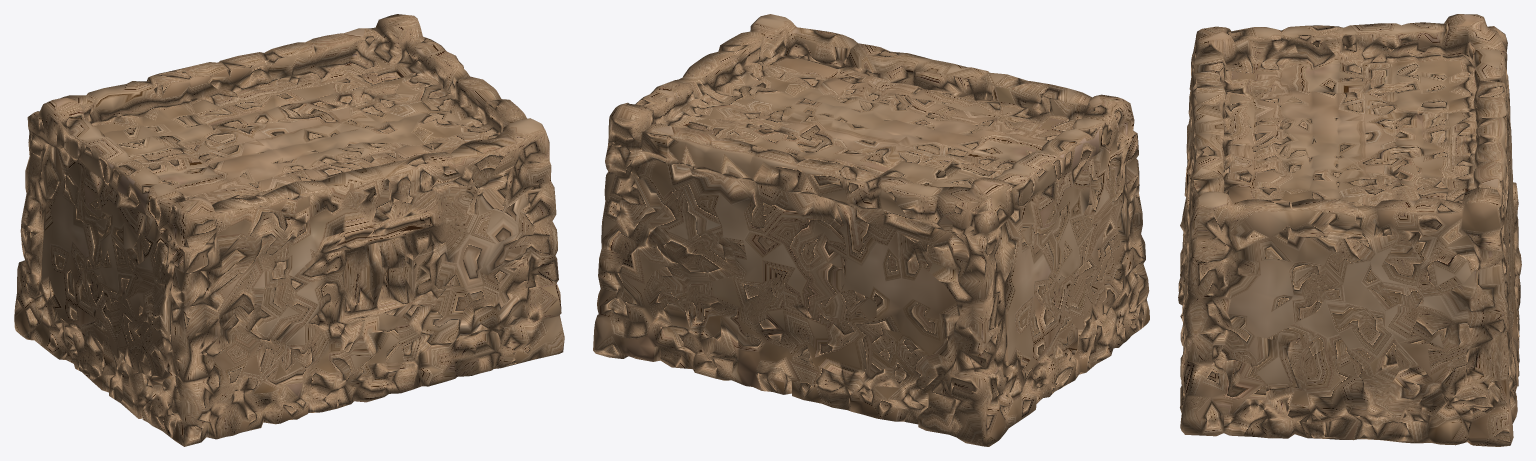
File: limestone-house-annex.glb
3 views of the same model, side by side, from view 1: azimuth 30°, elevation 25°; view 2: azimuth 150°, elevation 25°; view 3: azimuth 270°, elevation 25° (orthographic).
Parts seen in each view (by area): view 1: geometry_0; view 2: geometry_0; view 3: geometry_0.
Part boxes in pixels (x1,y1,x2,y2): geometry_0: (14, 14, 564, 446); geometry_0: (593, 14, 1149, 446); geometry_0: (1178, 14, 1521, 446).
Size of the model in its own units: 4.49 by 2.65 by 3.32.
Materials: 1 (1 with a texture image).
